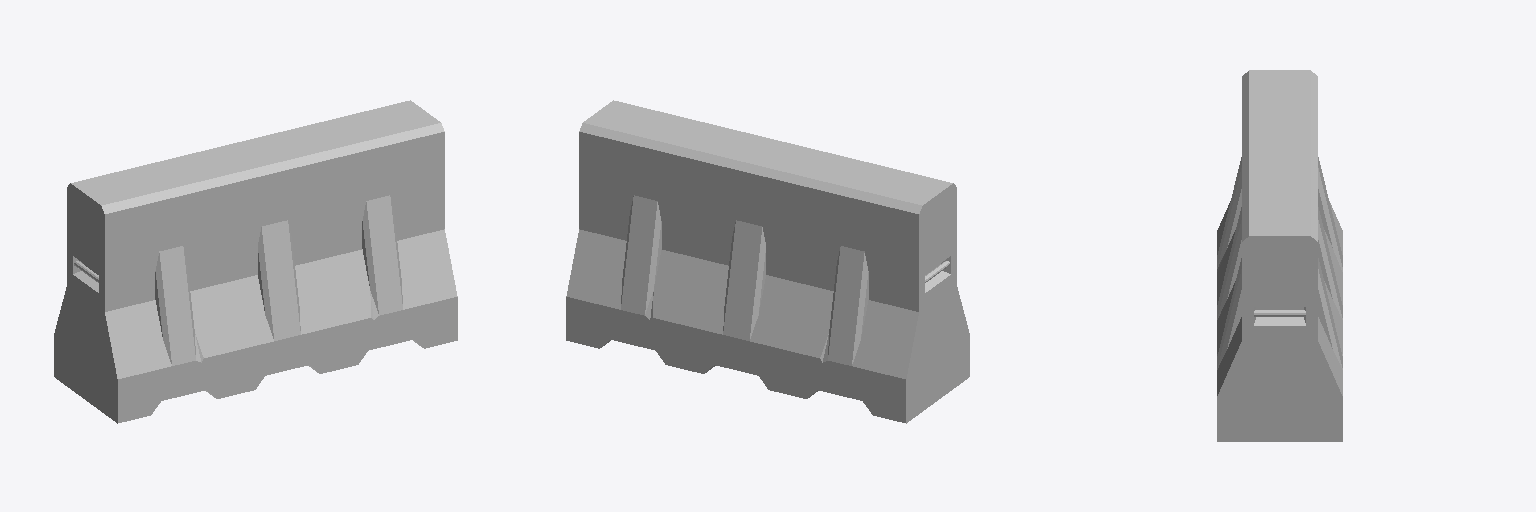
The model's file is PlasticBarrier.obj.
3 renders of one model, left to right at view 1: azimuth 30°, elevation 25°; view 2: azimuth 150°, elevation 25°; view 3: azimuth 270°, elevation 25°, orthographic.
Visible parts, largest first — view 1: PlasticBarrier_Cube.018; view 2: PlasticBarrier_Cube.018; view 3: PlasticBarrier_Cube.018.
Part boxes in pixels (bbox=[...]): PlasticBarrier_Cube.018: bbox=[54, 100, 457, 423]; PlasticBarrier_Cube.018: bbox=[566, 100, 969, 423]; PlasticBarrier_Cube.018: bbox=[1217, 70, 1342, 441].
Bounding box in the file's own units: 1.04 × 0.5995 × 0.3339.